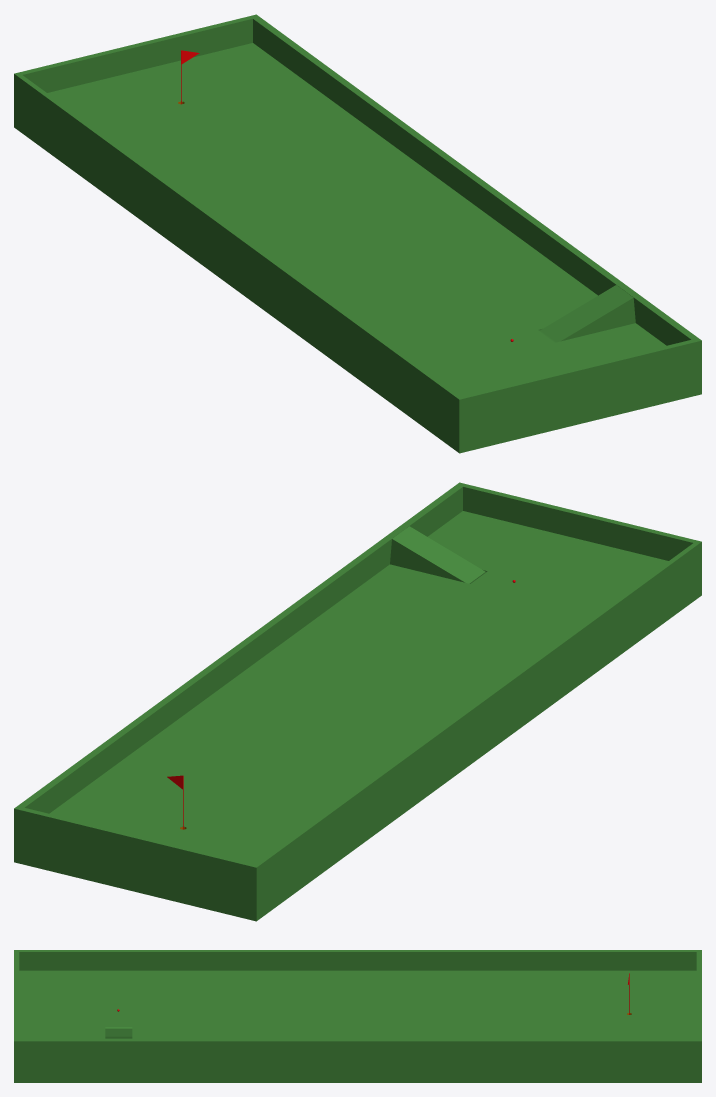
File: level_1.glb
3 renders of one model, top to bottom at view 1: azimuth 30°, elevation 25°; view 2: azimuth 150°, elevation 25°; view 3: azimuth 270°, elevation 25°, orthographic. The views are drawn at different scales.
Visible parts, largest first — view 1: green; view 2: green; view 3: green.
Part boxes in pixels (<box>): green: <box>14,14,701,453</box>; green: <box>14,482,701,921</box>; green: <box>14,950,701,1082</box>.
Size of the model in its own units: 3.92 by 1.27 by 12.48.
